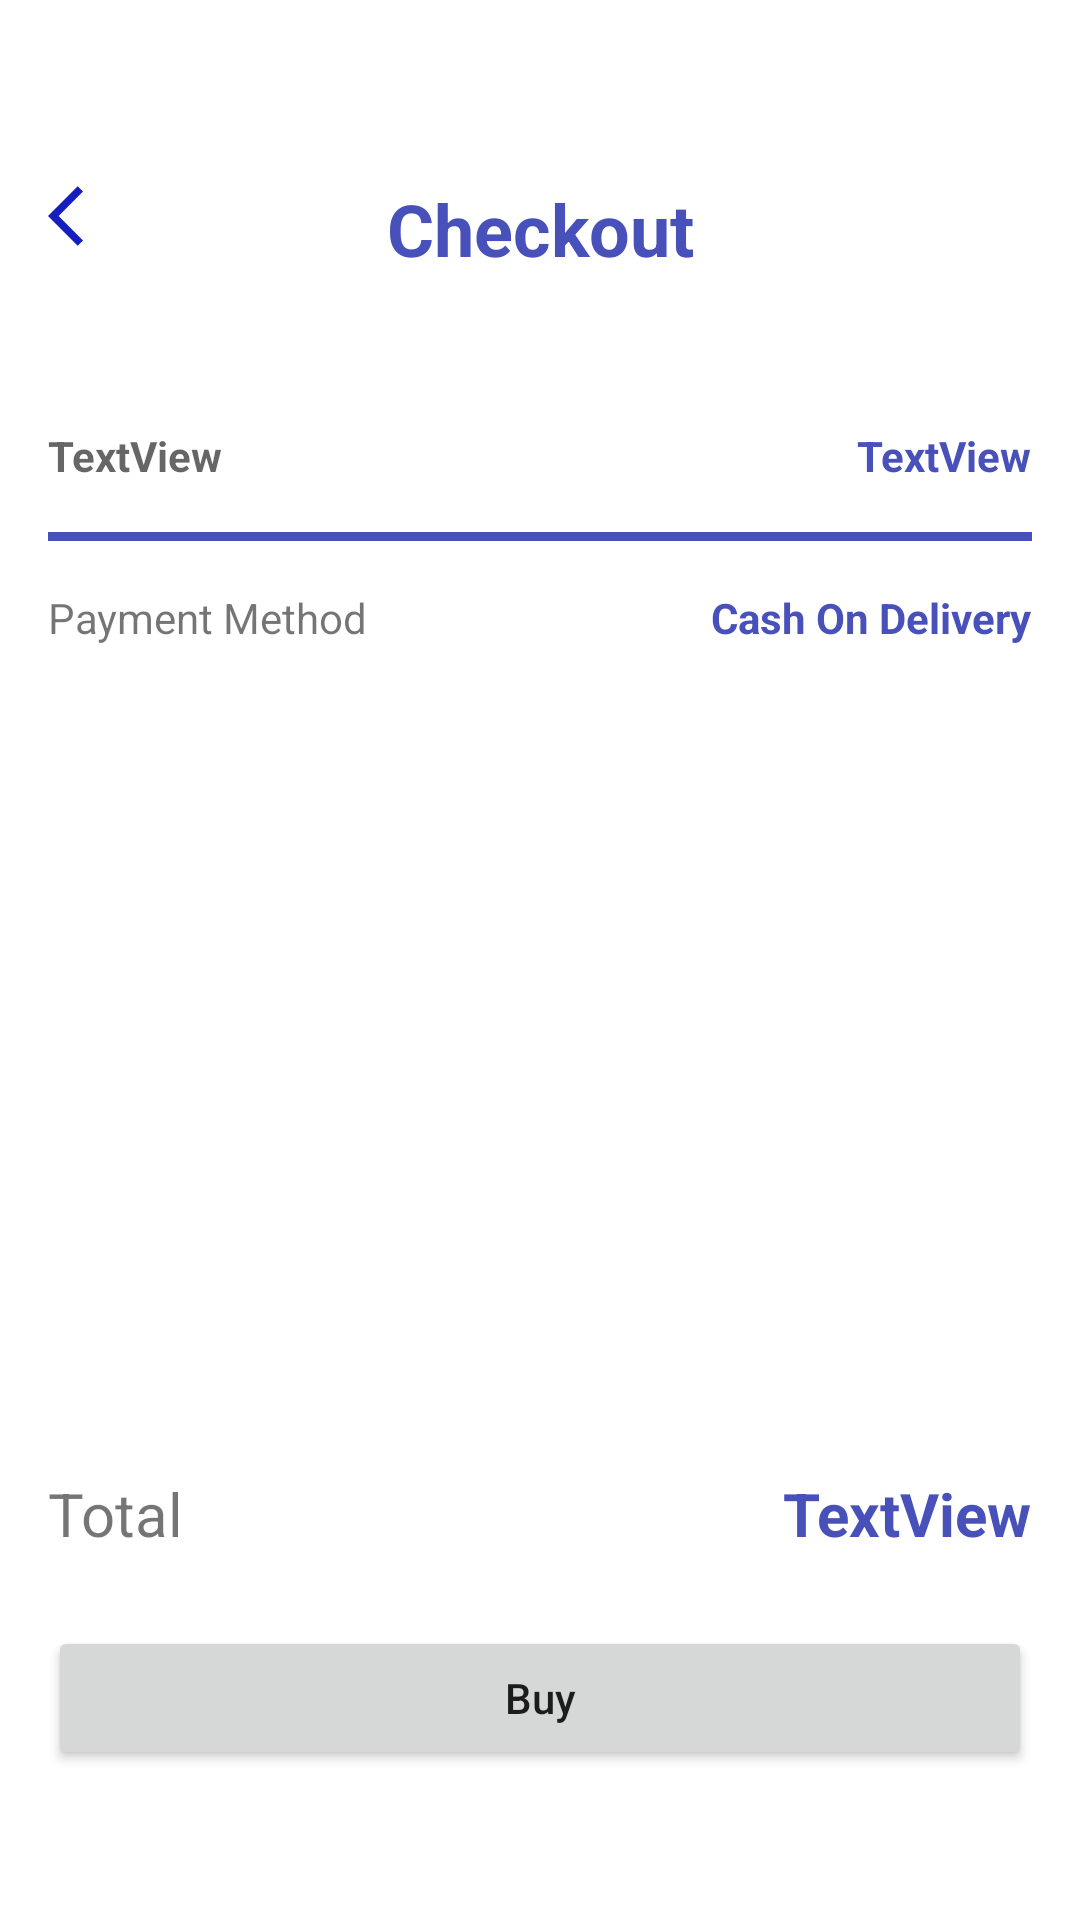

Where icons sit on this 1080*1920 app screen, as (x1, y1, x2, y2):
arrow back: (48, 186, 83, 246)
